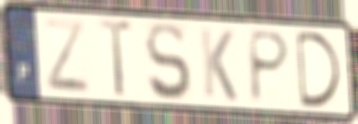D: (293, 28, 344, 110)
K: (198, 24, 239, 104)
P: (248, 27, 293, 105)
S: (143, 20, 194, 105)
T: (96, 17, 135, 101)
Z: (41, 16, 92, 96)
